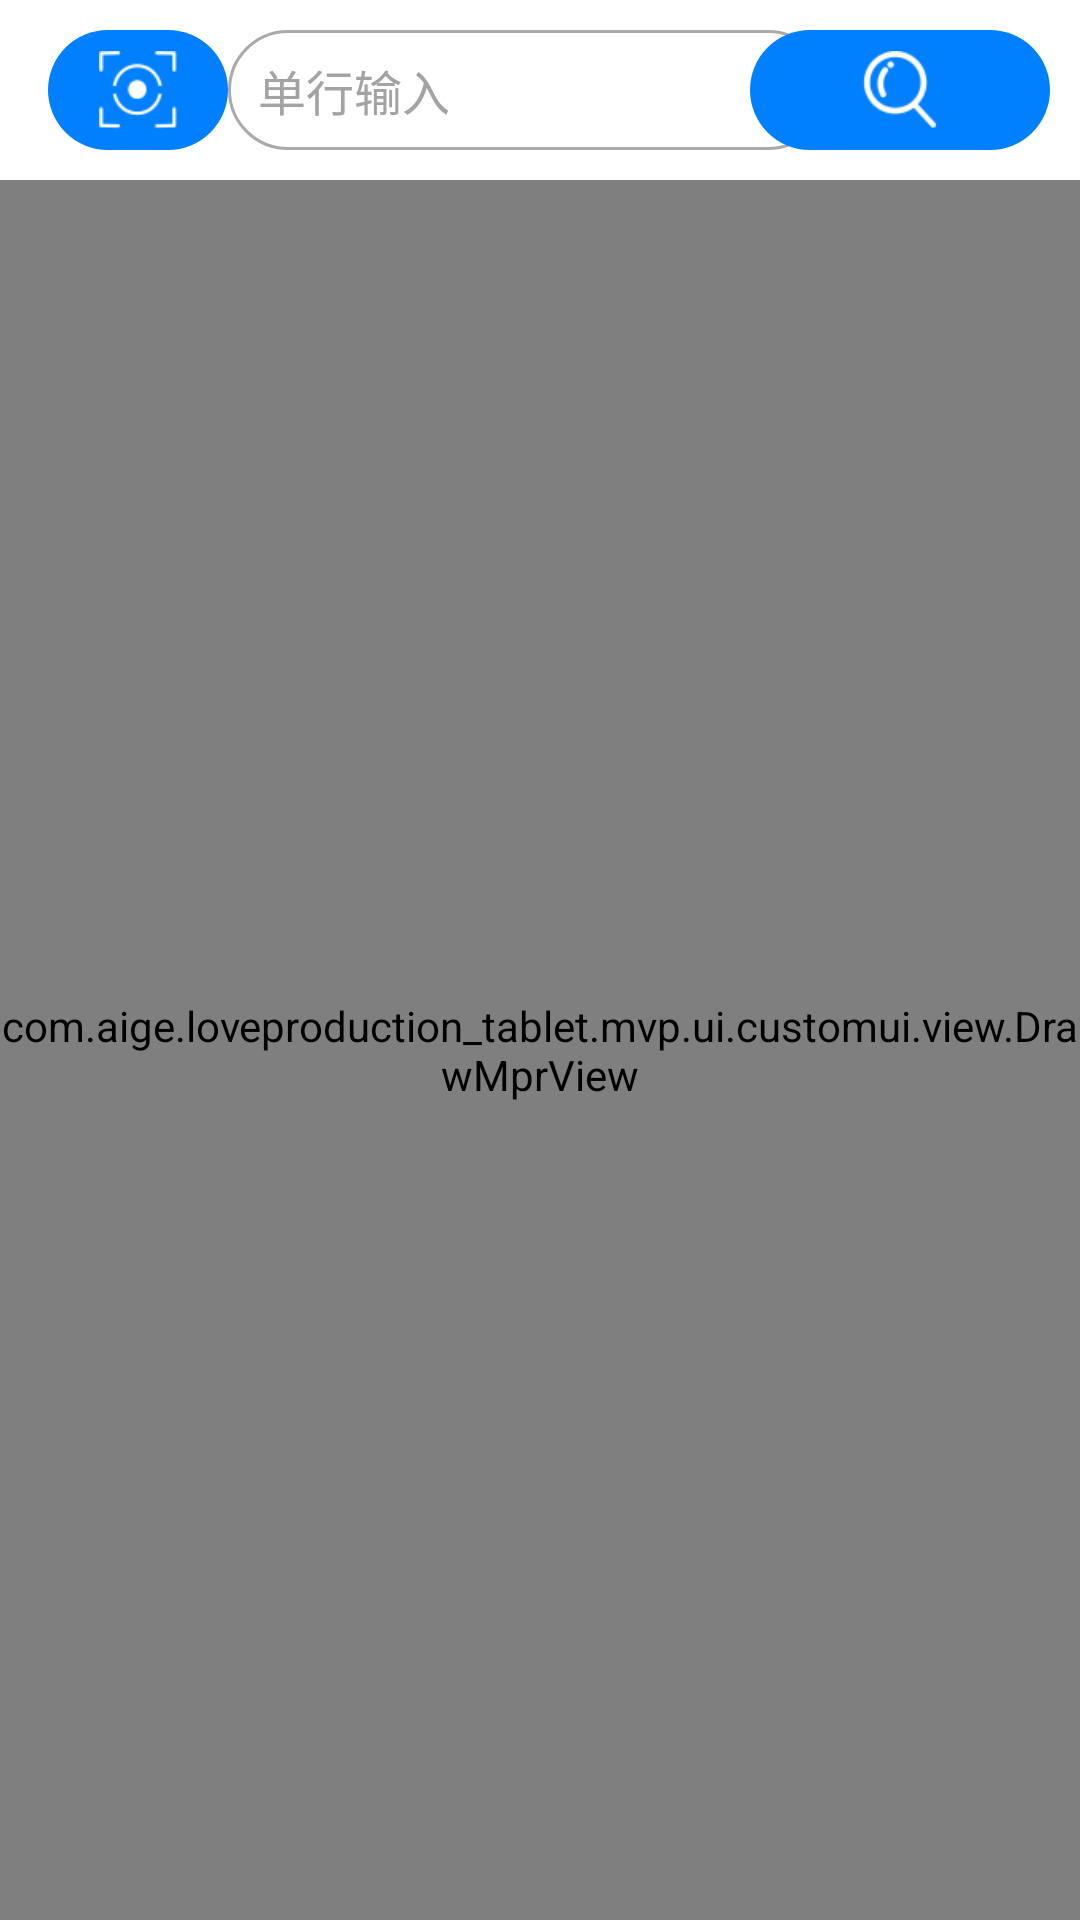

Icon click points for this 1080 × 1920 phone screenshot, format (x,y):
camera: (138,90)
find: (900,90)
